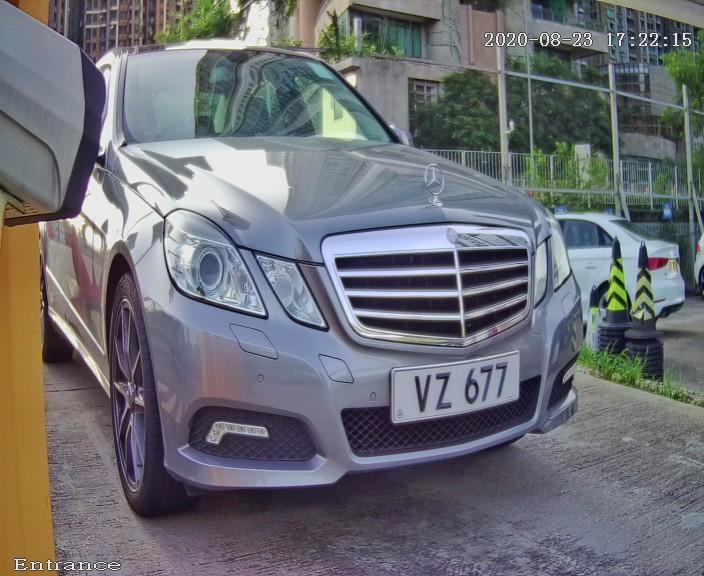Car: (29, 11, 623, 530)
License Plate: (341, 324, 570, 439)
